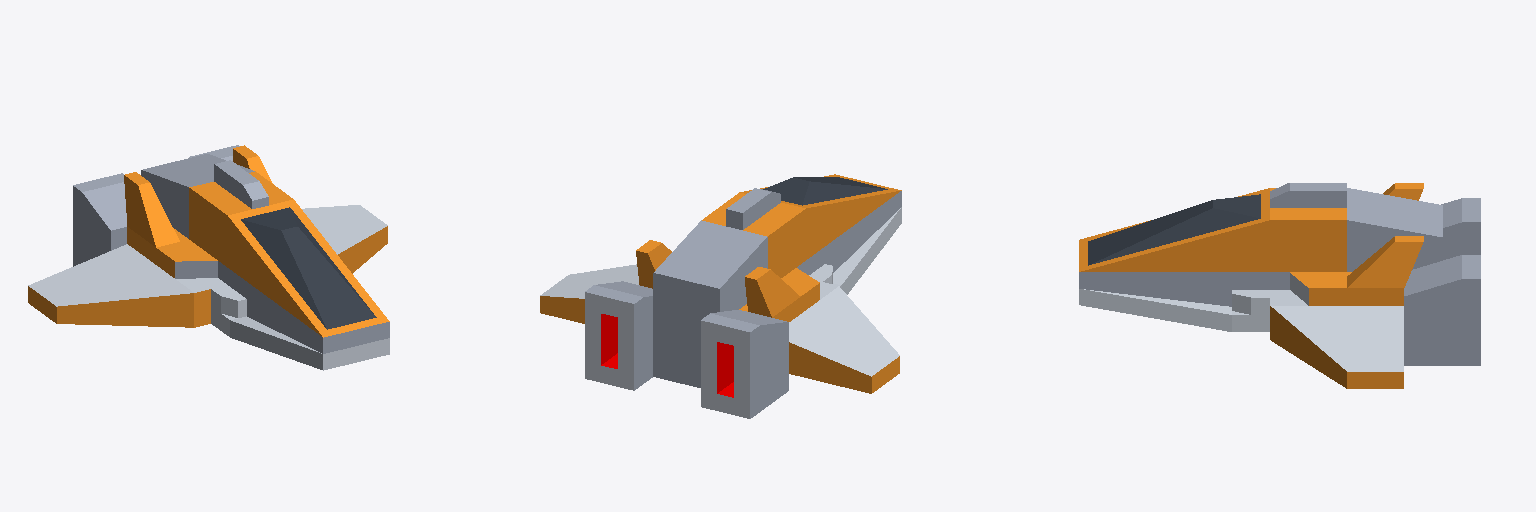
File: testShip.obj
3 renders of one model, left to right at view 1: azimuth 30°, elevation 25°; view 2: azimuth 150°, elevation 25°; view 3: azimuth 270°, elevation 25°, orthographic.
Bounding box in the file's own units: 2 × 0.8 × 2.1.